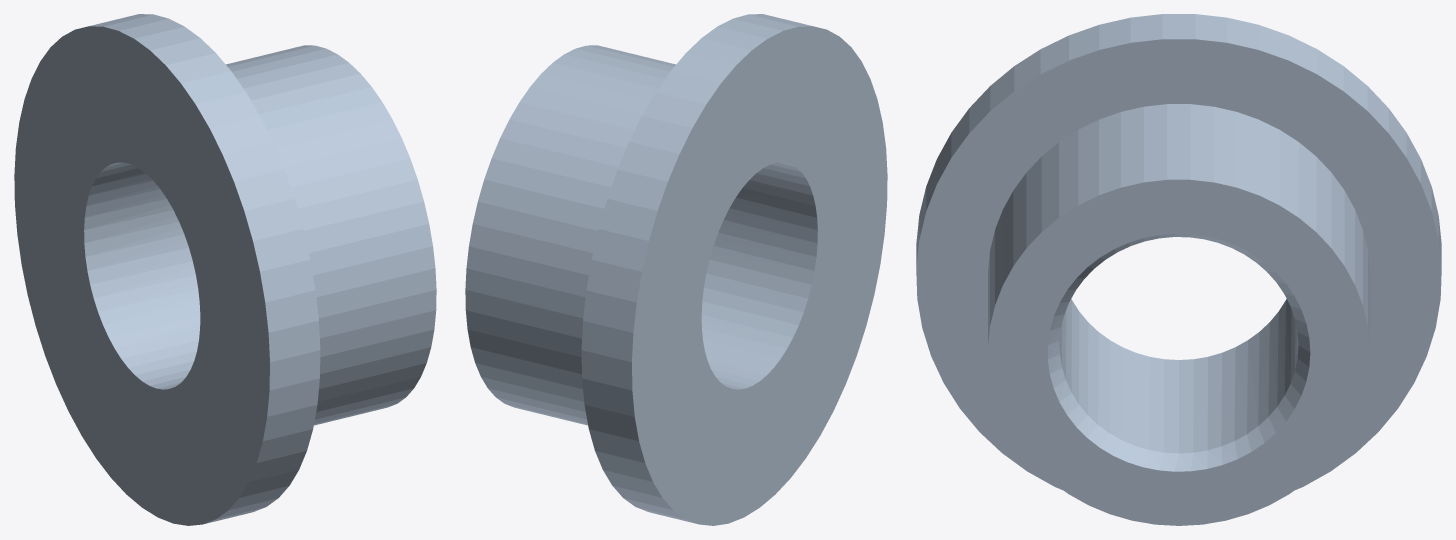
3 views of the same model, side by side, from view 1: azimuth 30°, elevation 25°; view 2: azimuth 150°, elevation 25°; view 3: azimuth 270°, elevation 25° (orthographic). The views are drawn at different scales.
Visible parts, largest first — view 1: p01; view 2: p01; view 3: p01.
Boxes of the visible parts, <box> form: p01: <box>14,14,436,525</box>; p01: <box>465,14,887,525</box>; p01: <box>916,14,1441,525</box>.
Bounding box in the file's own units: 0.04 × 0.0879 × 0.088.
